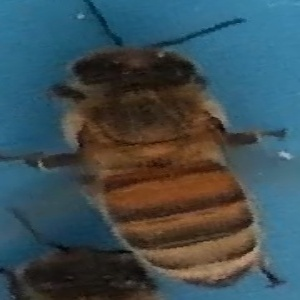bee: (57, 20, 297, 287), (2, 233, 155, 299)
